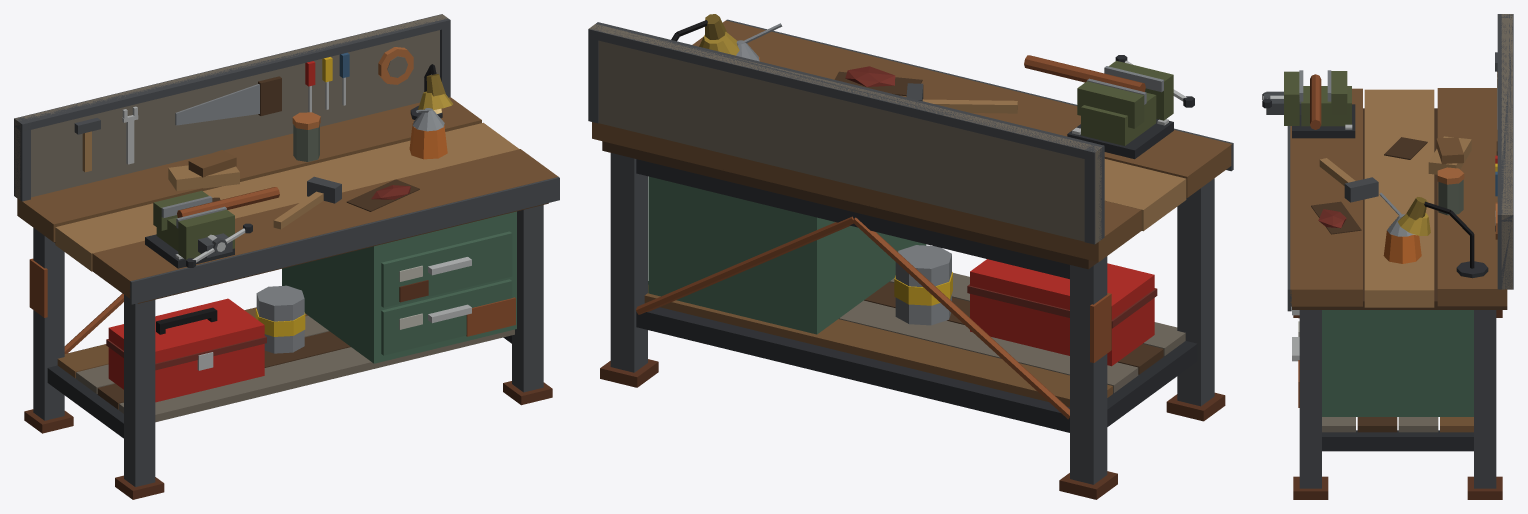
Rendered from piece_workbench.fbx.
The picture shows the model from 3 angles, left to right: view 1: azimuth 30°, elevation 25°; view 2: azimuth 150°, elevation 25°; view 3: azimuth 270°, elevation 25°; orthographic projection. The views are drawn at different scales.
Visible parts, largest first — view 1: piece_workbench; view 2: piece_workbench; view 3: piece_workbench.
Part boxes in pixels (left/top/right/bottom): piece_workbench: left=14, top=14, right=559, bottom=499; piece_workbench: left=588, top=14, right=1233, bottom=499; piece_workbench: left=1262, top=14, right=1513, bottom=499.
Size of the model in its own units: 1.5 by 1 by 0.793.
